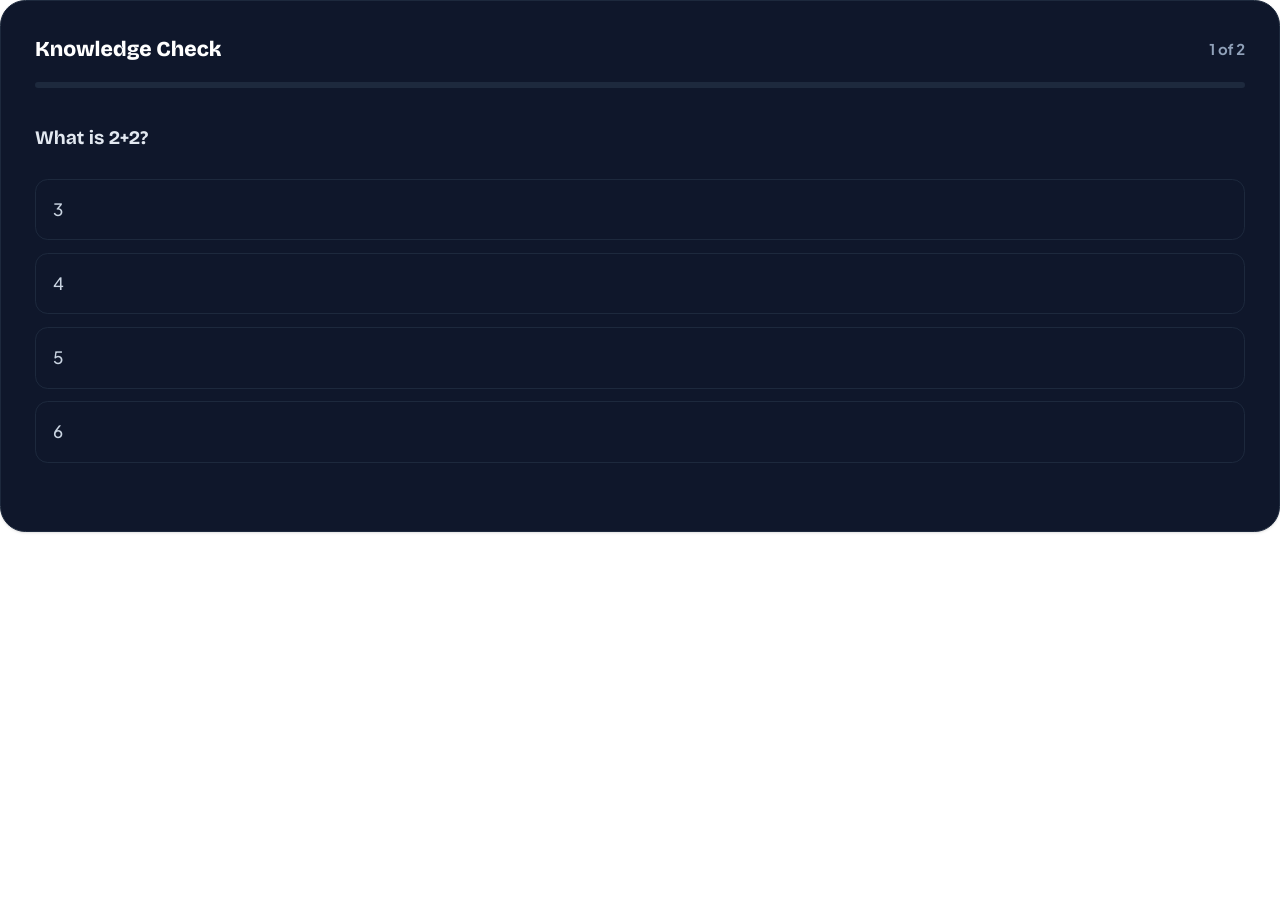
Scenario: Quiz › clicking wrong answer shows incorrect feedback
Click the button "3".
click(58, 209)  # box [35,179,1245,240]
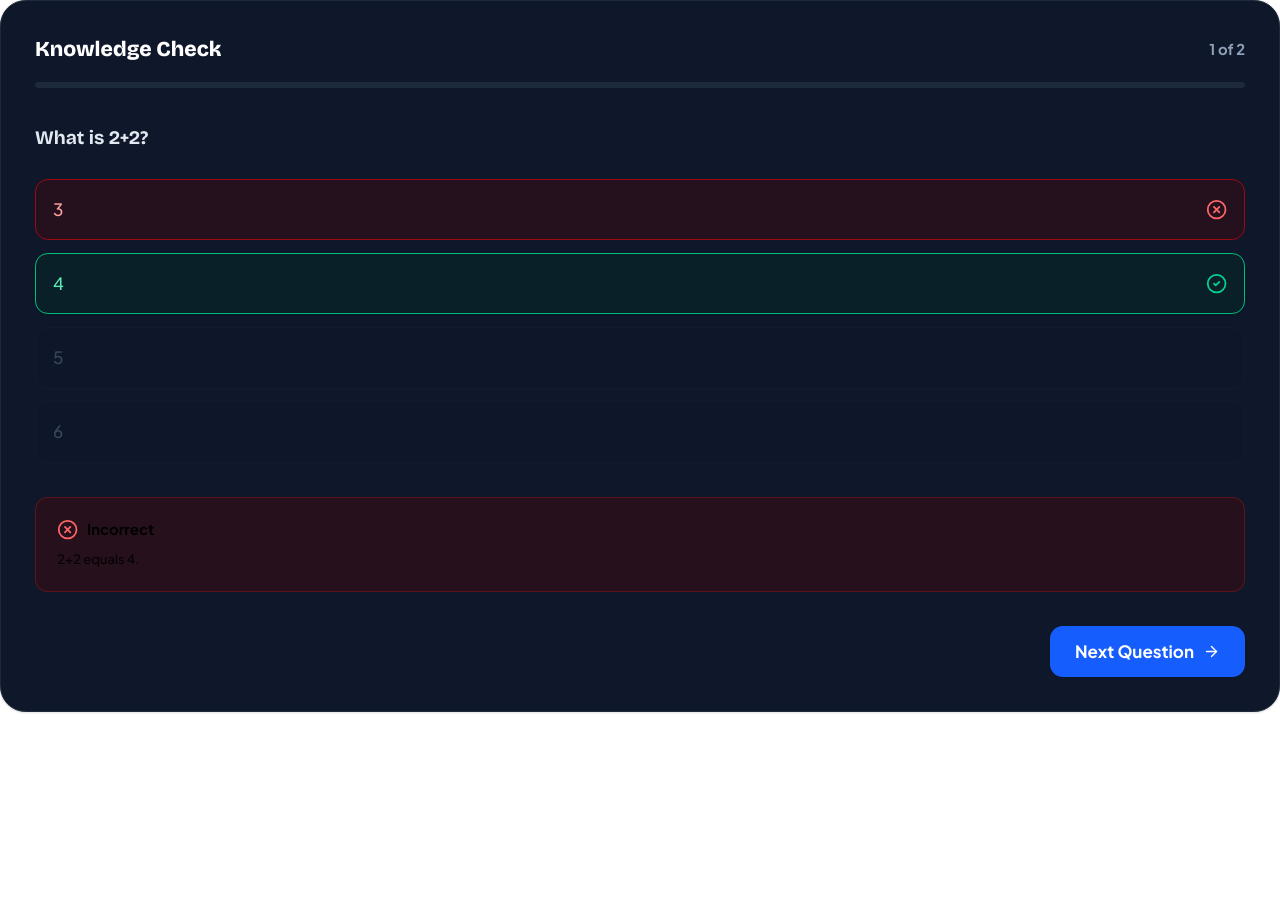
Expected: the text "Incorrect" is shown, [57,519,154,540]
